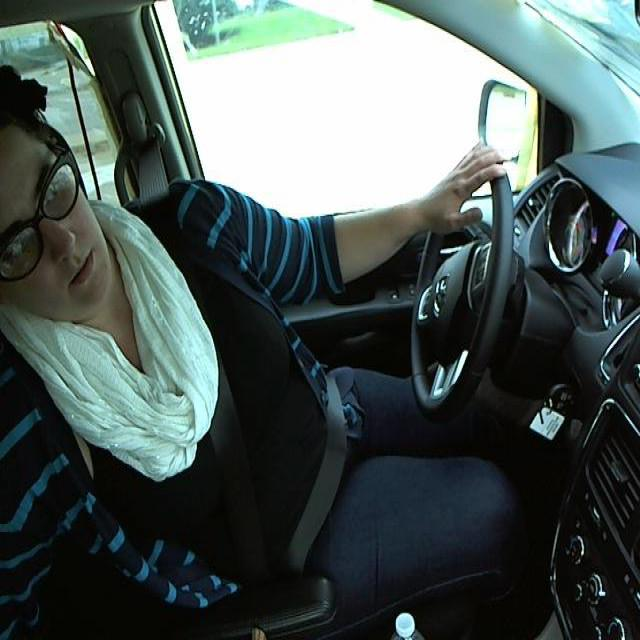seatbelt: (136, 188, 346, 571)
